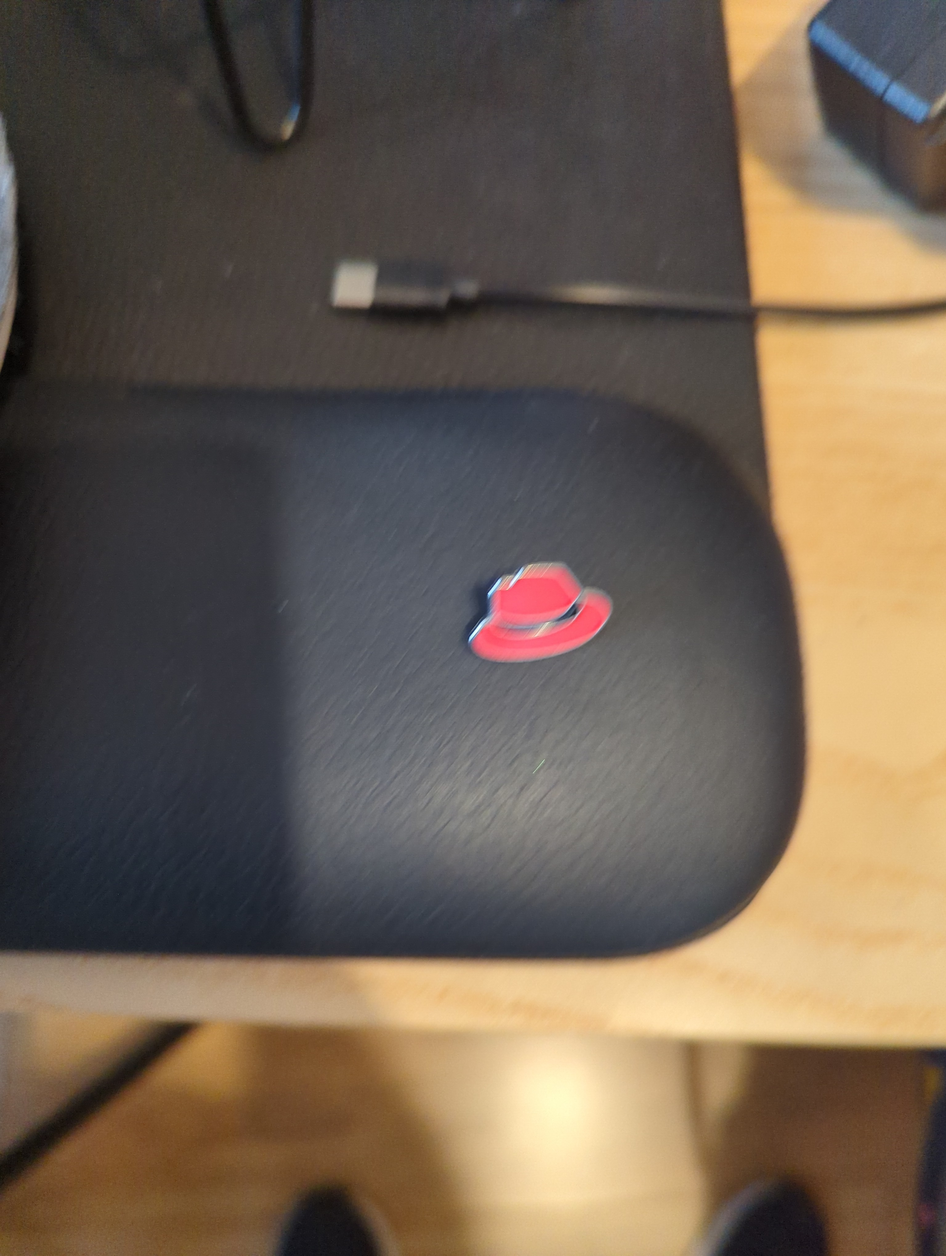Red-Hat: (395, 510, 697, 749)
